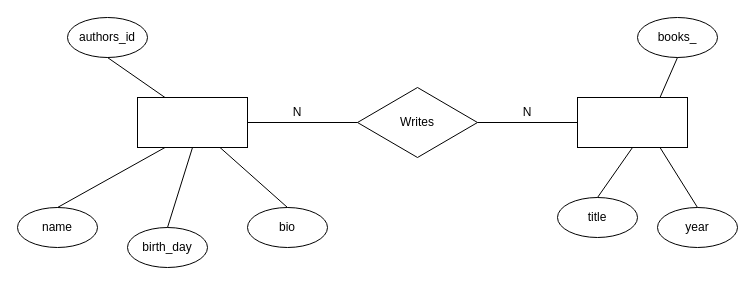
Some shapes in this 755 by 285 pixel diagram are drawn without their labels. Here are the shapes that lost their labels. From the top down, the box of each, then its label:
(136, 96, 248, 148): AUTHORS
(576, 96, 688, 148): BOOKS
